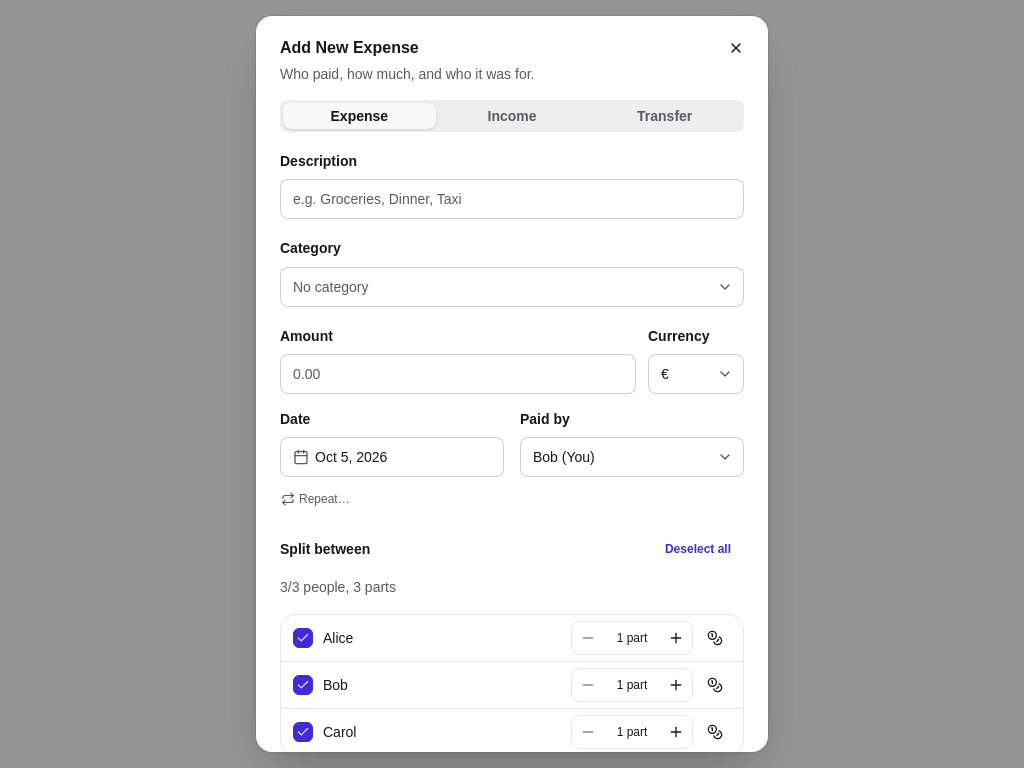
AddExpenseModal › stays open and says why the core refused the expense
In the field labelled "Description": (512, 199) x1=280 y1=179 x2=744 y2=219, type "Yacht"
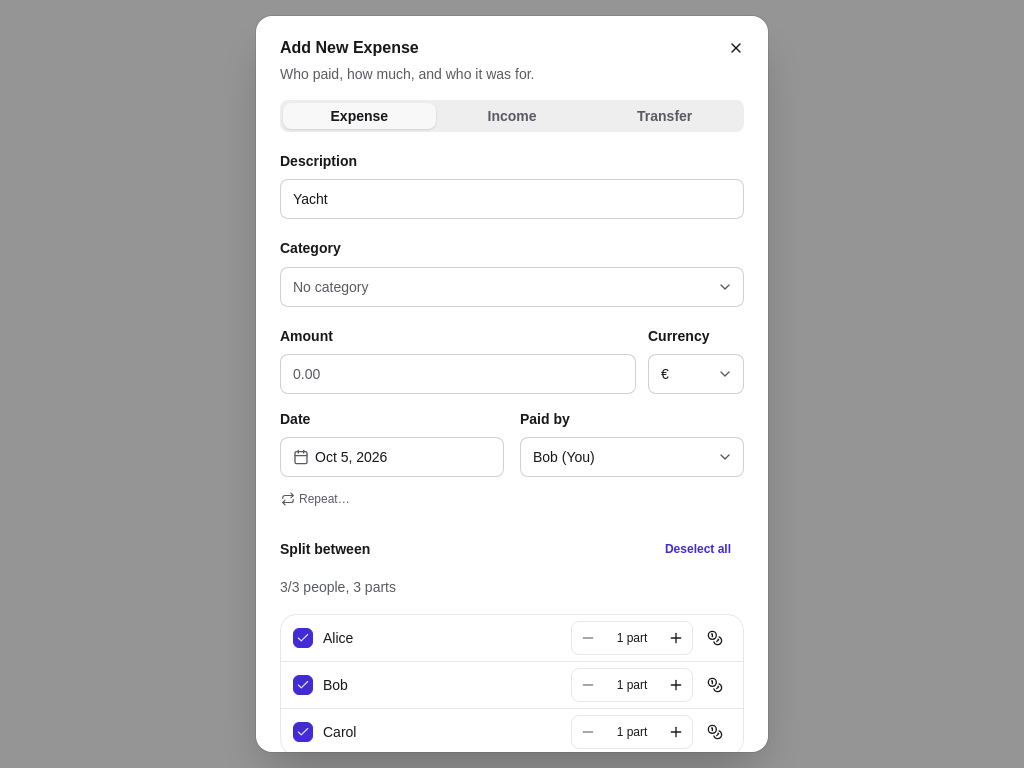
In the number field labelled "Amount": (458, 374) x1=280 y1=354 x2=636 y2=394, type "30"
(page scrolled)
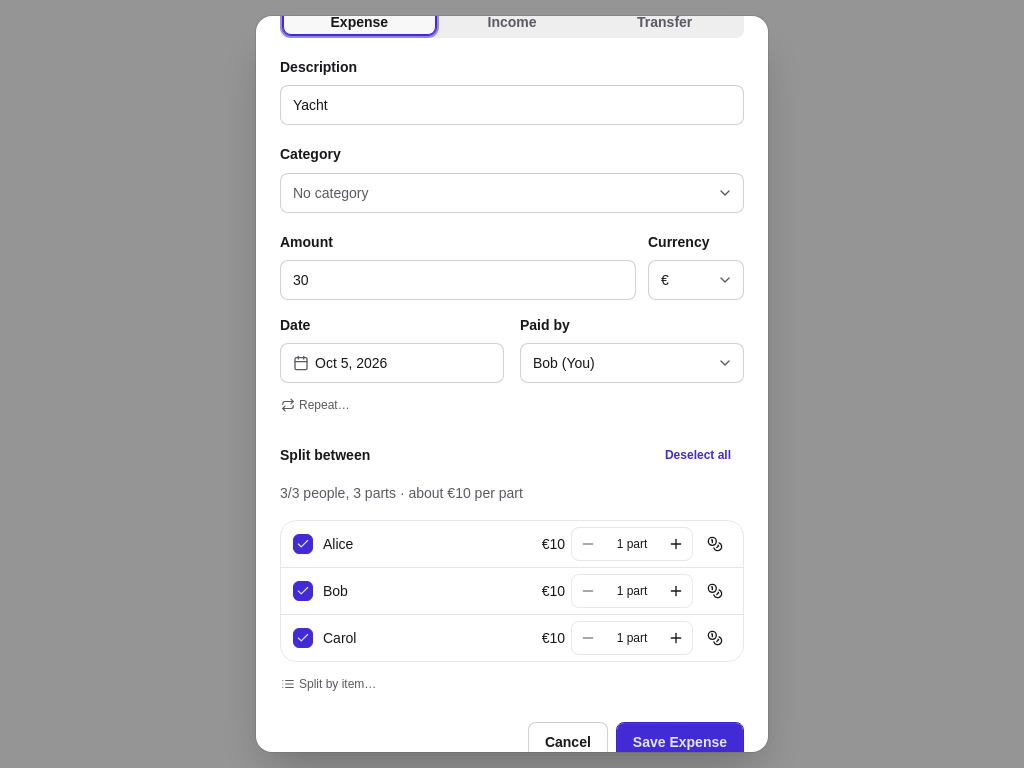
Submit the form, box x1=280 y1=6 x2=744 y2=762
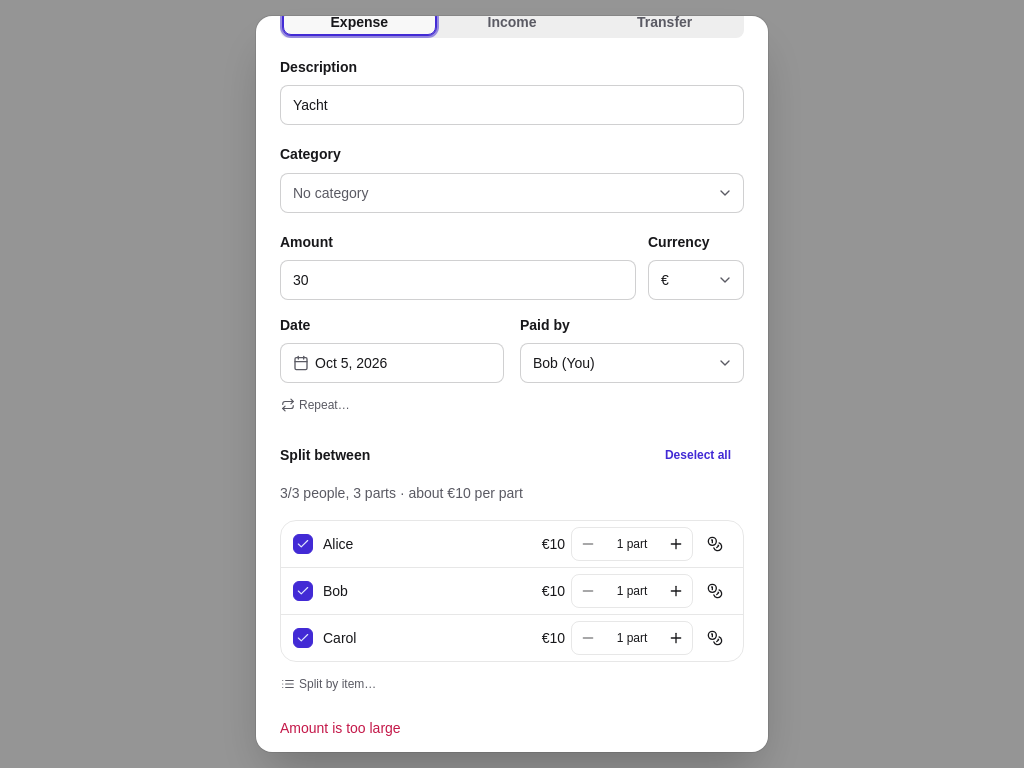
Check: the dialog shows "Amount is too large", box x1=280 y1=720 x2=401 y2=736
